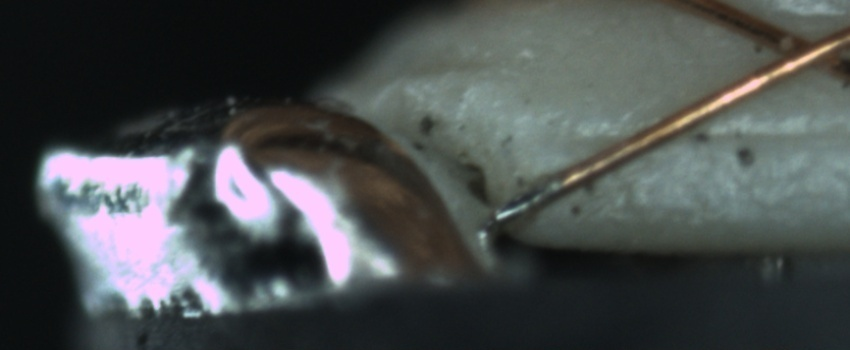CL: (748, 13, 847, 85)
DL: (562, 104, 848, 169)
TS: (491, 177, 561, 229)
